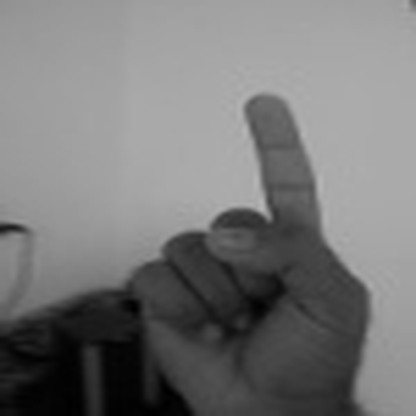d: (123, 91, 366, 416)
